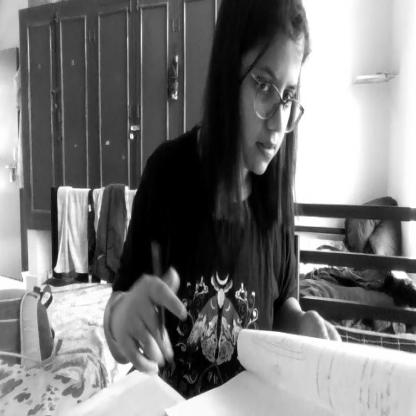Distracted: (214, 0, 311, 191)
